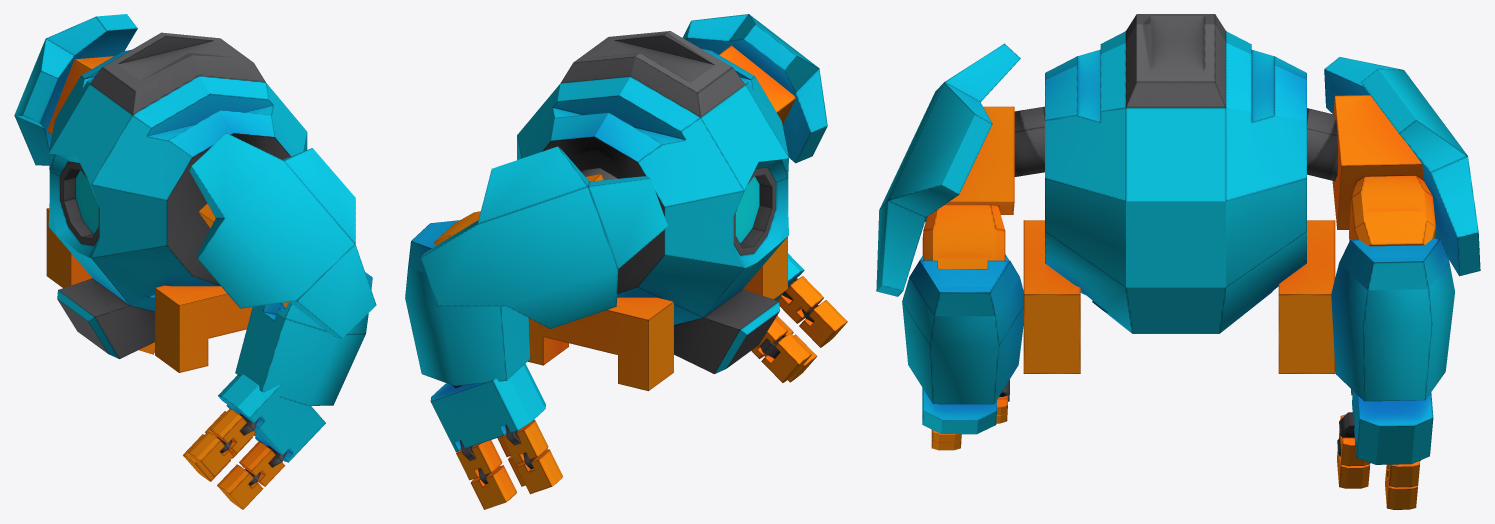
The model's file is Body_Idle13.obj.
3 renders of one model, left to right at view 1: azimuth 30°, elevation 25°; view 2: azimuth 150°, elevation 25°; view 3: azimuth 270°, elevation 25°, orthographic. The views are drawn at different scales.
Visible parts, largest first — view 1: Plane001, Object006, Object008, Object007, Object002; view 2: Plane001, Object002, Object004, Object003, Object006, Object008; view 3: Plane001, Object002, Object006, Object003, Object007, Object004, Object008, Object005, Object001.
Boxes of the visible parts, x1,y1,x2,y2 form: Plane001: [46, 32, 307, 372]; Object006: [189, 133, 376, 338]; Object008: [183, 374, 325, 509]; Object007: [235, 272, 372, 405]; Object002: [14, 14, 137, 165]; Plane001: [517, 31, 788, 390]; Object002: [420, 146, 667, 328]; Object004: [430, 363, 562, 509]; Object003: [405, 220, 530, 385]; Object006: [682, 14, 827, 163]; Object008: [751, 253, 847, 382]; Plane001: [1023, 14, 1335, 373]; Object002: [1324, 57, 1480, 276]; Object006: [876, 43, 1020, 296]; Object003: [1331, 238, 1454, 401]; Object007: [902, 254, 1023, 404]; Object004: [1337, 389, 1433, 509]; Object008: [922, 379, 1009, 450]; Object005: [1014, 106, 1044, 176]; Object001: [1307, 108, 1337, 181].
Size of the model in its own units: 98.06 by 150 by 183.
